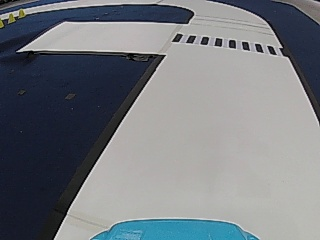CrossWalk: (170, 34, 283, 55)
